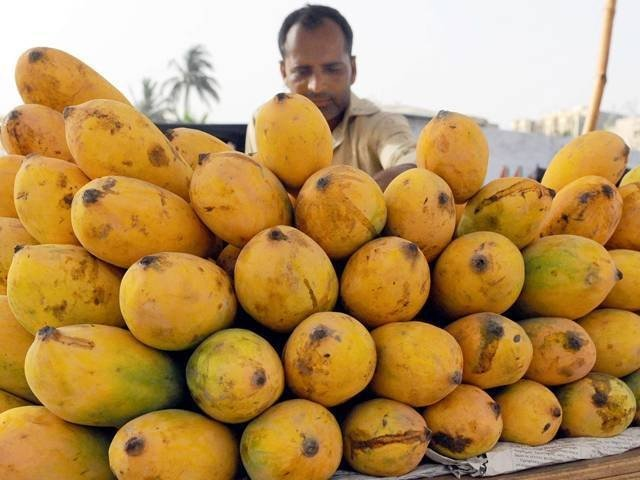mango: (20, 330, 172, 411), (56, 93, 182, 171), (62, 180, 193, 249), (239, 227, 333, 315), (434, 229, 530, 307), (413, 106, 505, 183), (251, 88, 336, 162), (377, 330, 463, 403), (543, 122, 635, 188)
